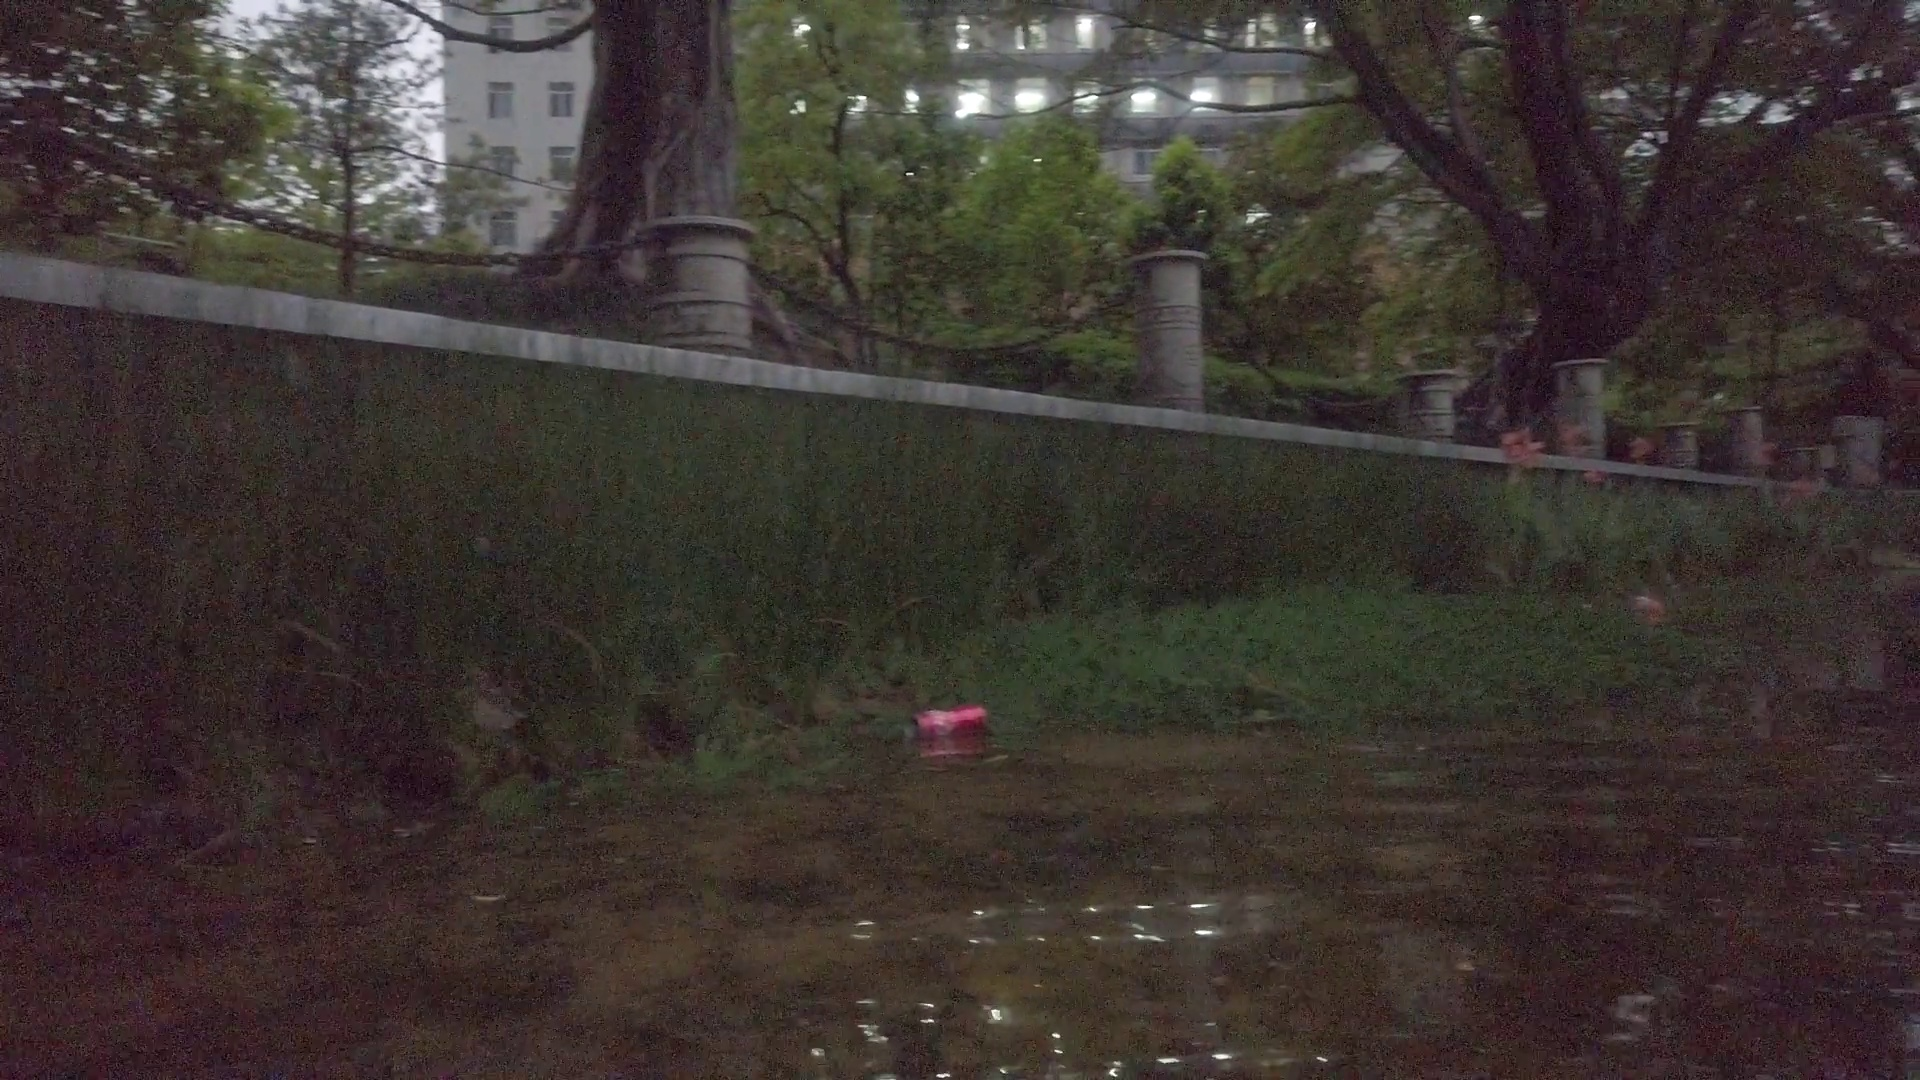bottle: (1631, 589, 1683, 642), (905, 705, 992, 736)
